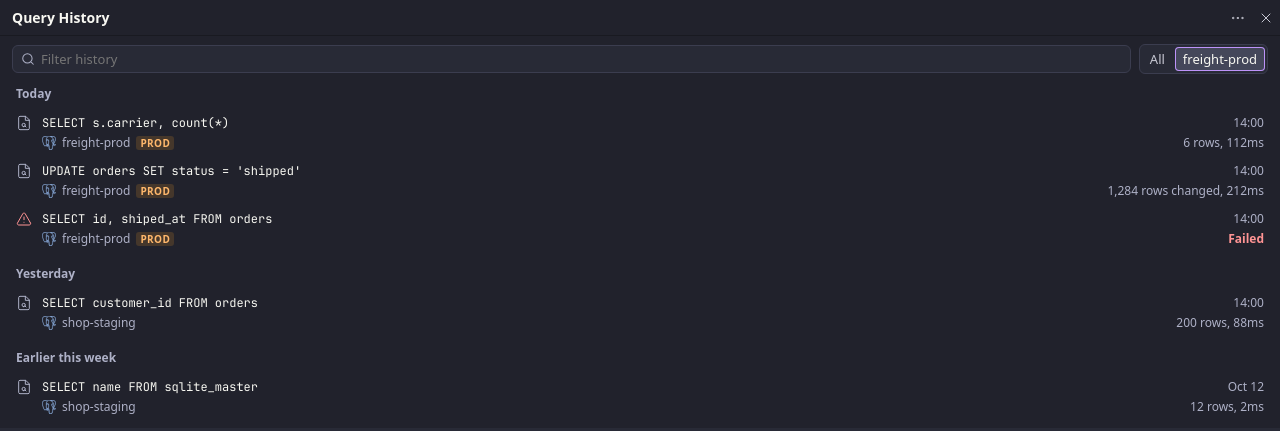
it: empty_and_refresh
Type "zzz" into the search field labelled "Filter history". click: (580,59)
box: left=39, top=49, right=1122, bottom=69
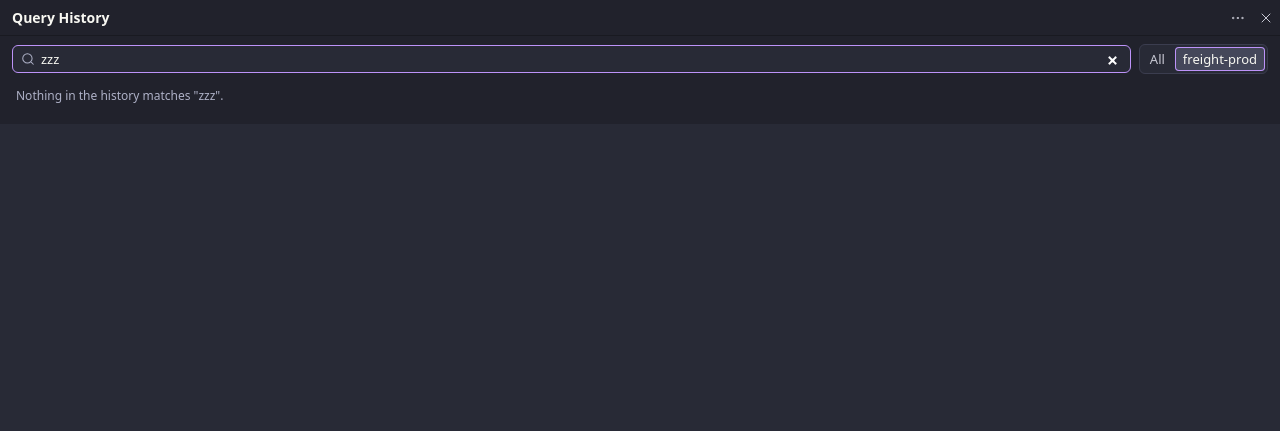
Check: the text "Nothing in the history matches \"zzz\"." is shown, box left=16, top=87, right=224, bottom=104
